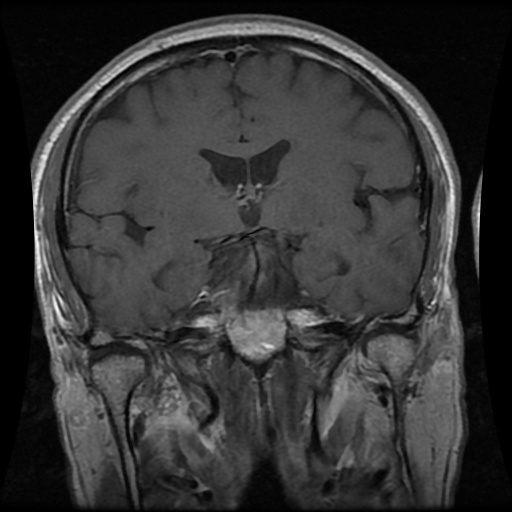pituitary: (211, 287, 287, 364)
